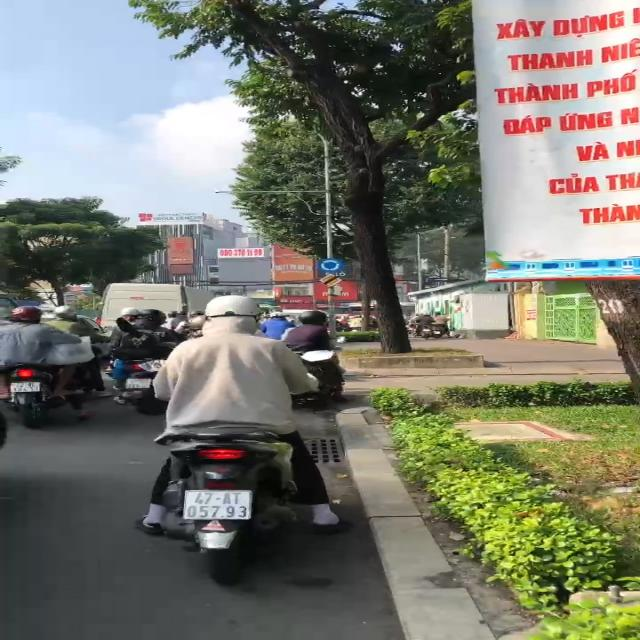Bien bao noi giao nhau chay theo vong xuyen: (317, 256, 349, 274)
